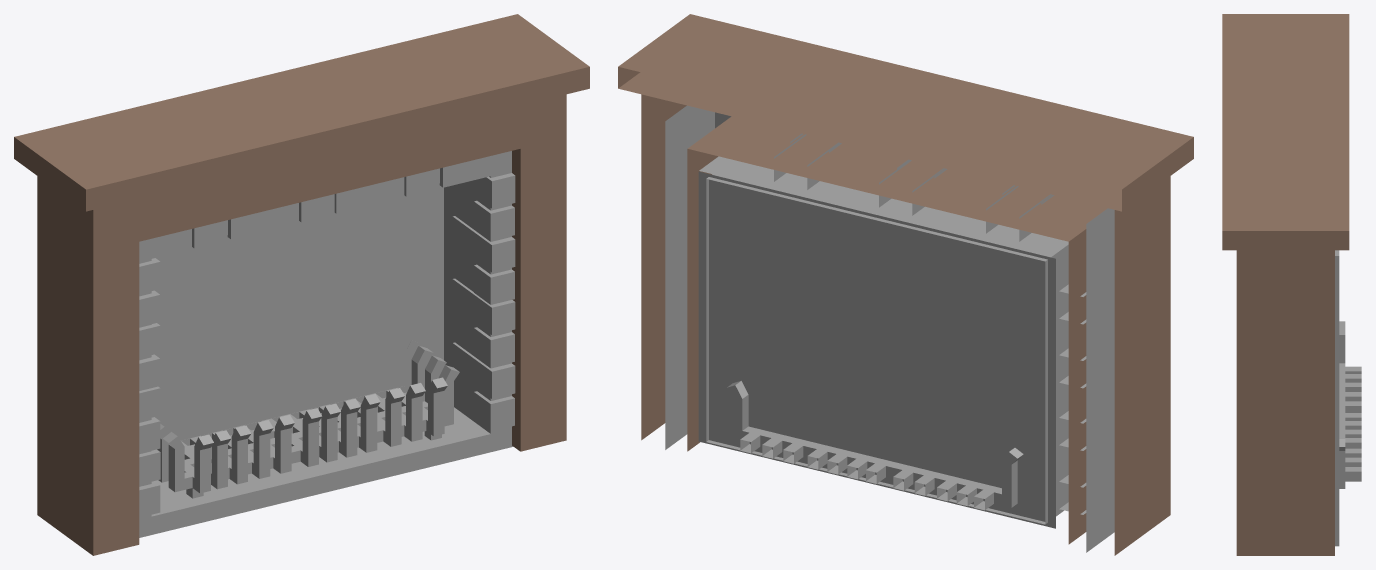
Rendered from FirePlace.fbx.
3 renders of one model, left to right at view 1: azimuth 30°, elevation 25°; view 2: azimuth 150°, elevation 25°; view 3: azimuth 270°, elevation 25°, orthographic. The views are drawn at different scales.
Visible parts, largest first — view 1: Fireplace; view 2: Fireplace; view 3: Fireplace.
Boxes of the visible parts, x1,y1,x2,y2 form: Fireplace: (14, 14, 589, 555); Fireplace: (618, 14, 1193, 555); Fireplace: (1222, 14, 1361, 555).
Bounding box in the file's own units: 456 × 327 × 124.
